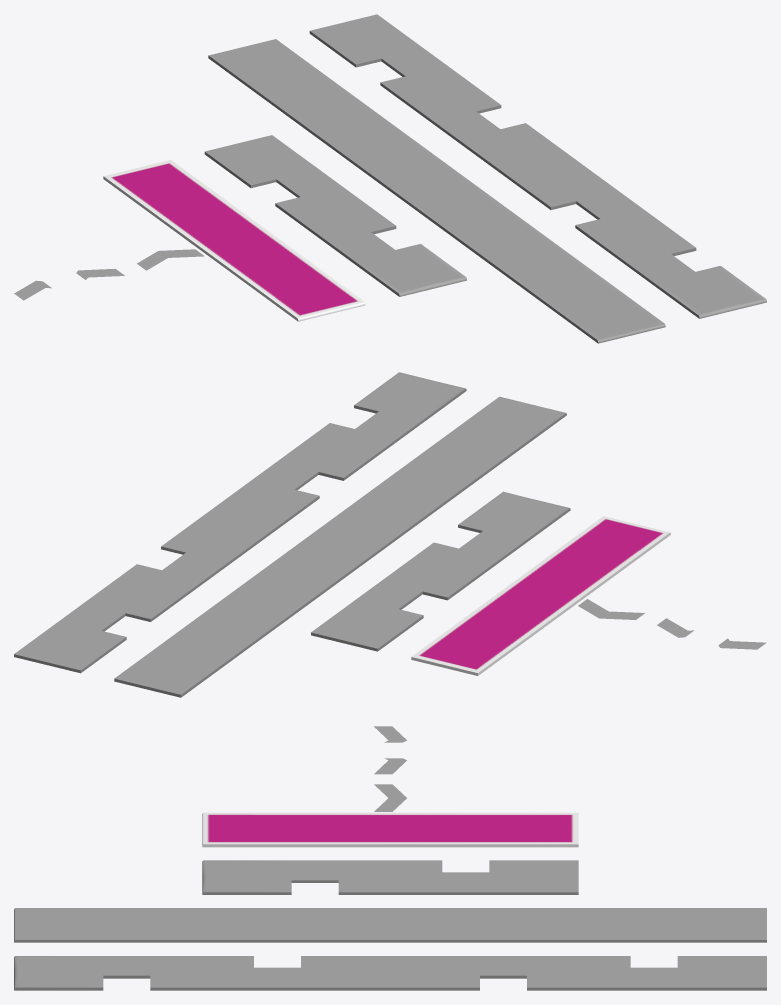
File: Road.fbx
3 views of the same model, one above another, from view 1: azimuth 30°, elevation 25°; view 2: azimuth 150°, elevation 25°; view 3: azimuth 270°, elevation 25° (orthographic). The views are drawn at different scales.
Parts seen in each view (by area): view 1: Long_Road, Long_Hole_Road, Short_Road, Short_Hole_Road, Arrow; view 2: Long_Road, Long_Hole_Road, Short_Road, Short_Hole_Road, Arrow; view 3: Long_Road, Long_Hole_Road, Short_Road, Short_Hole_Road, Arrow.
Part boxes in pixels (x1,y1,x2,y2): Long_Road: [208, 39, 665, 343]; Long_Hole_Road: [309, 14, 766, 318]; Short_Road: [103, 160, 365, 321]; Short_Hole_Road: [204, 135, 466, 296]; Arrow: [137, 249, 204, 270]; Long_Road: [114, 396, 566, 697]; Long_Hole_Road: [14, 372, 466, 673]; Short_Road: [411, 516, 670, 675]; Short_Hole_Road: [311, 491, 570, 651]; Arrow: [578, 599, 644, 619]; Long_Road: [14, 908, 766, 942]; Long_Hole_Road: [14, 956, 766, 990]; Short_Road: [202, 812, 578, 847]; Short_Hole_Road: [202, 860, 578, 894]; Arrow: [374, 784, 406, 811].
Bounding box in the file's own units: 16.5 × 0.0833 × 20.
7 materials, 1 textured.
